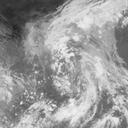cyclone: (39, 35, 101, 97)
